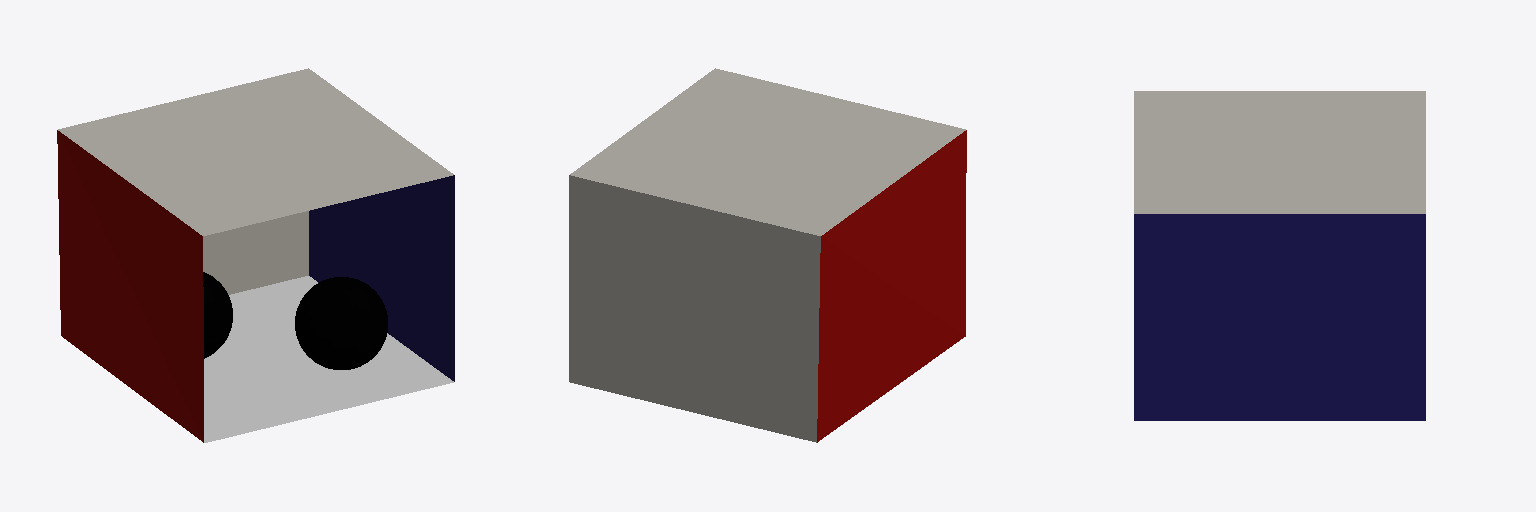
File: CornellBox-SpecularGlossy.obj
3 views of the same model, side by side, from view 1: azimuth 30°, elevation 25°; view 2: azimuth 150°, elevation 25°; view 3: azimuth 270°, elevation 25° (orthographic).
Visible parts, largest first — view 1: ceiling, leftWall, floor, rightWall, rightSphere, backWall, leftSphere; view 2: backWall, ceiling, leftWall; view 3: rightWall, ceiling.
Part boxes in pixels (bbox=[...]): ceiling: bbox=[58, 68, 453, 235]; leftWall: bbox=[57, 130, 203, 442]; floor: bbox=[204, 276, 453, 442]; rightWall: bbox=[309, 175, 454, 381]; rightSphere: bbox=[295, 277, 387, 369]; backWall: bbox=[203, 211, 308, 294]; leftSphere: bbox=[203, 272, 232, 358]; backWall: bbox=[569, 175, 820, 442]; ceiling: bbox=[570, 68, 965, 235]; leftWall: bbox=[817, 130, 966, 442]; rightWall: bbox=[1134, 214, 1425, 420]; ceiling: bbox=[1134, 91, 1425, 213].
Size of the model in its own units: 2.02 by 1.59 by 2.03.